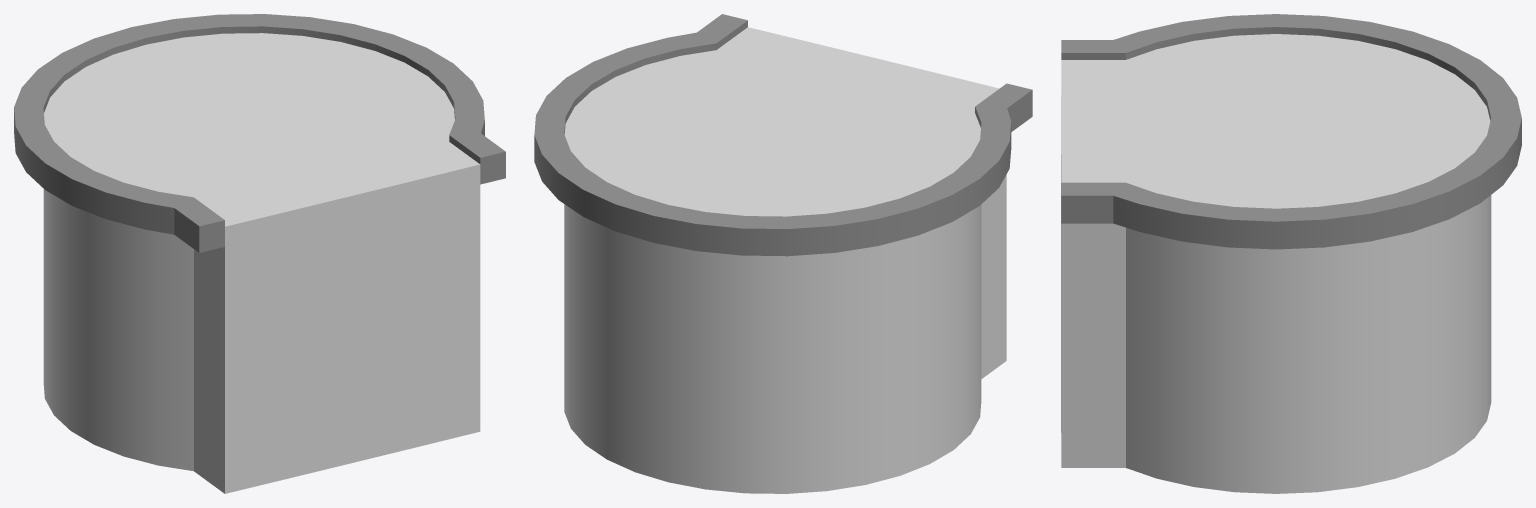
Rendered from Arena.FBX.
3 views of the same model, side by side, from view 1: azimuth 30°, elevation 25°; view 2: azimuth 150°, elevation 25°; view 3: azimuth 270°, elevation 25° (orthographic). The views are drawn at different scales.
Visible parts, largest first — view 1: Arena; view 2: Arena; view 3: Arena.
Part boxes in pixels (x1,y1,x2,y2): Arena: (14, 14, 505, 493); Arena: (534, 14, 1032, 493); Arena: (1061, 14, 1521, 493).
Size of the model in its own units: 1600 by 1025 by 1500.
